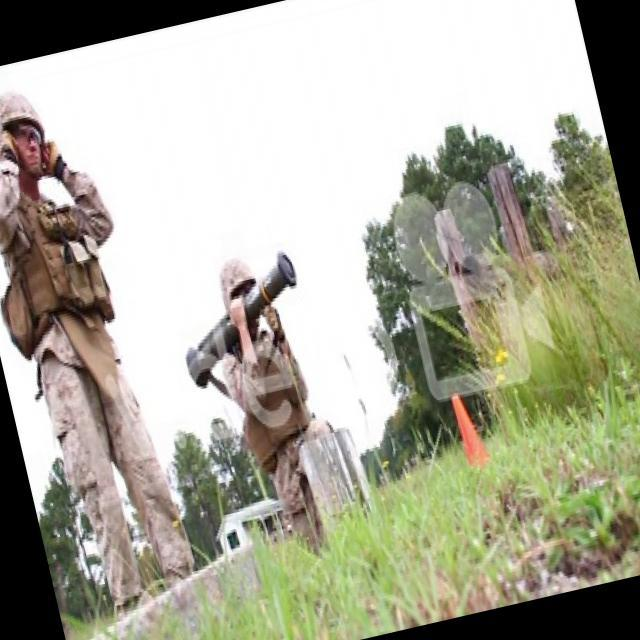rocket: (164, 248, 318, 392)
